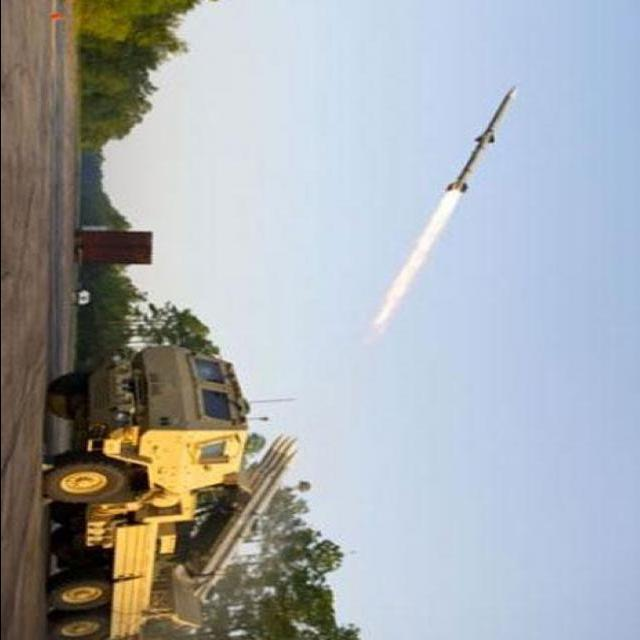missile: (444, 88, 528, 194)
